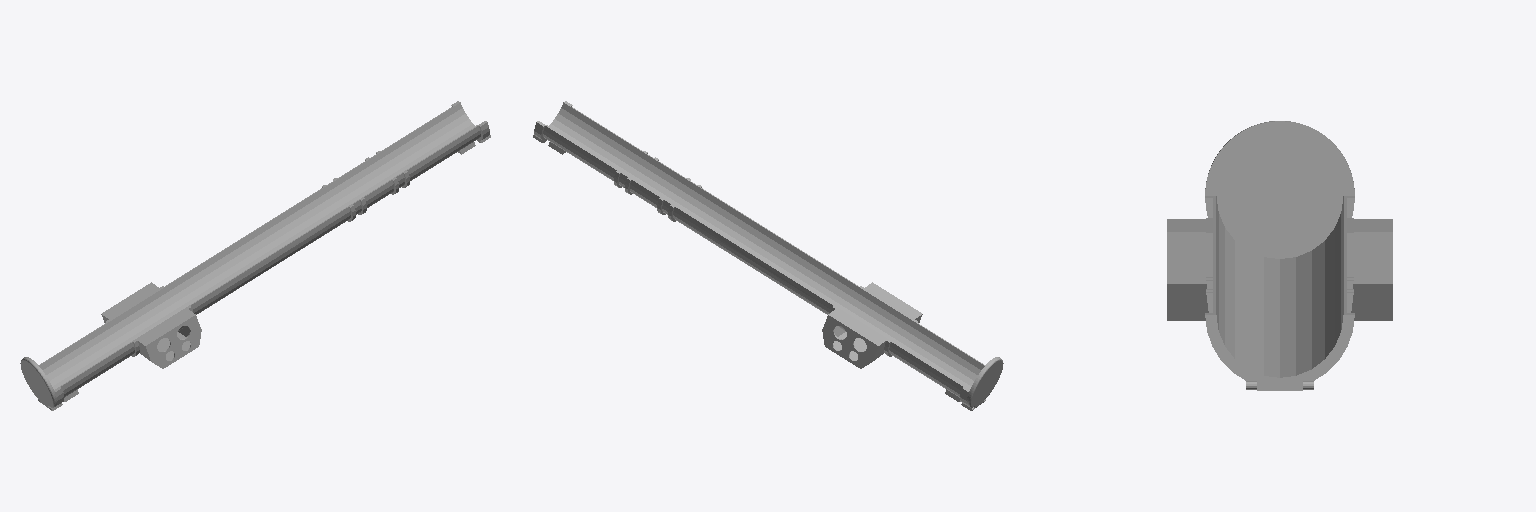
robot.urdf — launcher20deg_half:
<?xml version="1.0" ?>
<!-- =================================================================================== -->
<!-- |    This document was autogenerated by xacro from src/launcher20deg_half_description/urdf/launcher20deg_half.xacro | -->
<!-- |    EDITING THIS FILE BY HAND IS NOT RECOMMENDED                                 | -->
<!-- =================================================================================== -->
<robot name="launcher20deg_half">
  <material name="grey">
    <color rgba="0.82421875 0.82421875 0.82421875 1.0"/>
  </material>
  <material name="darkgrey">
    <color rgba="0.1843137254901961 0.30980392156862746 0.30980392156862746 1.000"/>
  </material>
  <material name="silver">
    <color rgba="0.700 0.700 0.700 1.000"/>
  </material>
  <material name="white">
    <color rgba="1 1 1 1"/>
  </material>
  <material name="orange">
    <color rgba="1 0.3 0.1 1"/>
  </material>
  <material name="blue">
    <color rgba="0.2 0.2 1 1"/>
  </material>
  <material name="red">
    <color rgba="0.8 0 0 1"/>
  </material>
  <material name="green">
    <color rgba="0.0 1 0.0 1"/>
  </material>
  <material name="black">
    <color rgba="0 0 0 1"/>
  </material>
  <transmission name="CupOpener_tran">
    <type>transmission_interface/SimpleTransmission</type>
    <joint name="CupOpener">
      <hardwareInterface>hardware_interface/EffortJointInterface</hardwareInterface>
    </joint>
    <actuator name="CupOpener_actr">
      <hardwareInterface>hardware_interface/EffortJointInterface</hardwareInterface>
      <mechanicalReduction>1</mechanicalReduction>
    </actuator>
  </transmission>
  <gazebo reference="base_link">
    <mu1>0.2</mu1>
    <mu2>0.2</mu2>
    <selfCollide>true</selfCollide>
    <gravity>true</gravity>
  </gazebo>
  <gazebo reference="launcher_platform">
    <material>Gazebo/DarkGrey</material>
    <mu1>0.2</mu1>
    <mu2>0.2</mu2>
    <selfCollide>true</selfCollide>
    <gravity>true</gravity>
  </gazebo>
  <gazebo reference="Canister_1">
    <material>Gazebo/White</material>
    <mu1>0.2</mu1>
    <mu2>0.2</mu2>
    <selfCollide>true</selfCollide>
    <visual>
      <transparency>0.75</transparency>
    </visual>
  </gazebo>
  <!-- <gazebo reference="Cup_3">
    <material>Gazebo/DarkGrey</material>
    <mu1>0.2</mu1>
    <mu2>0.2</mu2>
    <selfCollide>true</selfCollide>
  </gazebo> -->
  <gazebo reference="Cup_1">
    <material>Gazebo/DarkGrey</material>
    <mu1>0.2</mu1>
    <mu2>0.2</mu2>
    <selfCollide>true</selfCollide>
  </gazebo>
  <gazebo reference="CanisterHolder_1">
    <material>Gazebo/Green</material>
    <mu1>0.2</mu1>
    <mu2>0.2</mu2>
    <selfCollide>true</selfCollide>
  </gazebo>
  <gazebo reference="CanisterHolder_2">
    <material>Gazebo/Green</material>
    <mu1>0.2</mu1>
    <mu2>0.2</mu2>
    <selfCollide>true</selfCollide>
  </gazebo>
  <link name="base_link"/>
  <joint name="dummy_joint" type="fixed">
    <origin rpy="0 0 0" xyz="0 0 0"/>
    <parent link="base_link"/>
    <child link="launcher_platform"/>
  </joint>
  <link name="launcher_platform">
    <inertial>
      <origin rpy="0 0 0" xyz="0.21956009217606984 4.3636388735968575e-16 0.6746334924440056"/>
      <mass value="10722.621074762288"/>
      <inertia ixx="3680.005759" ixy="0.0" ixz="-2210.827735" iyy="13504.573497" iyz="0.0" izz="12126.040929"/>
    </inertial>
    <visual>
      <origin rpy="0 0 0" xyz="0 0 0"/>
      <geometry>
        <mesh filename="package://launcher20deg_half_description/meshes/base_link.stl" scale="0.001 0.001 0.001"/>
      </geometry>
      <material name="silver"/>
    </visual>
    <collision>
      <origin rpy="0 0 0" xyz="0 0 0"/>
      <geometry>
        <mesh filename="package://launcher20deg_half_description/meshes/base_link.stl" scale="0.001 0.001 0.001"/>
      </geometry>
    </collision>
  </link>
  <link name="Canister_1">
    <inertial>
      <origin rpy="0 0 0" xyz="-1.3433186025729844 -5.829324127345314e-12 -0.694969038036306"/>
      <mass value="831.8619039368604"/>
      <inertia ixx="387.88388" ixy="-0.0" ixz="-953.284553" iyy="2980.500638" iyz="-0.0" izz="2660.044462"/>
    </inertial>
    <visual>
      <origin rpy="0 0 0" xyz="-1.262326 0.0 -2.249618"/>
      <geometry>
        <mesh filename="package://launcher20deg_half_description/meshes/Canister_1.stl" scale="0.001 0.001 0.001"/>
      </geometry>
      <material name="silver"/>
    </visual>
    <collision>
      <origin rpy="0 0 0" xyz="-1.262326 0.0 -2.249618"/>
      <geometry>
        <mesh filename="package://launcher20deg_half_description/meshes/Canister_1.stl" scale="0.001 0.001 0.001"/>
      </geometry>
    </collision>
  </link>
  <!-- <link name="Cup_3">
  <inertial>
    <origin xyz="-0.11139775043512579 -2.463237070333466e-09 0.2908251033198668" rpy="0 0 0"/>
    <mass value="132.22389884749504"/>
    <inertia ixx="6.690853" iyy="3.560945" izz="4.004812" ixy="0.0" iyz="0.0" ixz="1.127009"/>
  </inertial>
  <visual>
    <origin xyz="-2.808743 0.0 -2.481602" rpy="0 0 0"/>
    <geometry>
      <mesh filename="package://launcher20deg_half_description/meshes/Cup_3.stl" scale="0.001 0.001 0.001"/>
    </geometry>
    <material name="silver"/>
  </visual>
  <collision>
    <origin xyz="-2.808743 0.0 -2.481602" rpy="0 0 0"/>
    <geometry>
      <mesh filename="package://launcher20deg_half_description/meshes/Cup_3.stl" scale="0.001 0.001 0.001"/>
    </geometry>
  </collision>
</link> -->
  <link name="Cup_1">
    <inertial>
      <origin rpy="0 0 0" xyz="0.1875705774787031 2.4632545340842703e-09 -0.686381472221144"/>
      <mass value="132.22389884749504"/>
      <inertia ixx="6.690933" ixy="0.0" ixz="1.126914" iyy="3.560945" iyz="-0.0" izz="4.004732"/>
    </inertial>
    <visual>
      <origin rpy="0 0 0" xyz="3.177629 -0.0 -1.389734"/>
      <geometry>
        <mesh filename="package://launcher20deg_half_description/meshes/Cup_1.stl" scale="0.001 0.001 0.001"/>
      </geometry>
      <material name="silver"/>
    </visual>
    <collision>
      <origin rpy="0 0 0" xyz="3.177629 -0.0 -1.389734"/>
      <geometry>
        <mesh filename="package://launcher20deg_half_description/meshes/Cup_1.stl" scale="0.001 0.001 0.001"/>
      </geometry>
    </collision>
  </link>
  <link name="CanisterHolder_1">
    <inertial>
      <origin rpy="0 0 0" xyz="-0.05951337321479344 1.4715522383126382e-16 0.16351174115532052"/>
      <mass value="335.0395971576902"/>
      <inertia ixx="43.686085" ixy="0.0" ixz="-3.25077" iyy="22.365267" iyz="0.0" izz="51.43432"/>
    </inertial>
    <visual>
      <origin rpy="0 0 0" xyz="1.419944 0.0 -0.847681"/>
      <geometry>
        <mesh filename="package://launcher20deg_half_description/meshes/CanisterHolder_1.stl" scale="0.001 0.001 0.001"/>
      </geometry>
      <material name="silver"/>
    </visual>
    <collision>
      <origin rpy="0 0 0" xyz="1.419944 0.0 -0.847681"/>
      <geometry>
        <mesh filename="package://launcher20deg_half_description/meshes/CanisterHolder_1.stl" scale="0.001 0.001 0.001"/>
      </geometry>
    </collision>
  </link>
  <link name="CanisterHolder_2">
    <inertial>
      <origin rpy="0 0 0" xyz="-0.05951351085707057 1.4715522383126382e-16 0.16351217113232974"/>
      <mass value="335.0395971576902"/>
      <inertia ixx="43.686085" ixy="0.0" ixz="-3.25077" iyy="22.365267" iyz="0.0" izz="51.43432"/>
    </inertial>
    <visual>
      <origin rpy="0 0 0" xyz="-1.399134 0.0 -1.873741"/>
      <geometry>
        <mesh filename="package://launcher20deg_half_description/meshes/CanisterHolder_2.stl" scale="0.001 0.001 0.001"/>
      </geometry>
      <material name="silver"/>
    </visual>
    <collision>
      <origin rpy="0 0 0" xyz="-1.399134 0.0 -1.873741"/>
      <geometry>
        <mesh filename="package://launcher20deg_half_description/meshes/CanisterHolder_2.stl" scale="0.001 0.001 0.001"/>
      </geometry>
    </collision>
  </link>
  <joint name="CanisterToHolder2" type="fixed">
    <origin rpy="0 0 0" xyz="-0.136808 0.0 0.375877"/>
    <parent link="CanisterHolder_2"/>
    <child link="Canister_1"/>
  </joint>
  <!-- <joint name="CupOpener" type="revolute">
  <origin xyz="1.546417 0.0 0.231984" rpy="0 0 0"/>
  <parent link="Canister_1"/>
  <child link="Cup_3"/>
  <axis xyz="0.0 1.0 0.0"/>
  <limit upper="4.712389" lower="0.0" effort="100" velocity="100"/>
</joint> -->
  <joint name="CupCloser" type="fixed">
    <origin rpy="0 0 0" xyz="-4.439955 0.0 -0.859884"/>
    <parent link="Canister_1"/>
    <child link="Cup_1"/>
  </joint>
  <joint name="BaseToHolder1" type="fixed">
    <origin rpy="0 0 0" xyz="-1.419944 0.0 0.847681"/>
    <parent link="base_link"/>
    <child link="CanisterHolder_1"/>
  </joint>
  <joint name="BaseToHolder2" type="fixed">
    <origin rpy="0 0 0" xyz="1.399134 0.0 1.873741"/>
    <parent link="base_link"/>
    <child link="CanisterHolder_2"/>
  </joint>
</robot>

--- What the picture shows (computed from the rendered views, not written in the file) ---
The picture shows the robot from 3 angles, left to right: view 1: azimuth 30°, elevation 25°; view 2: azimuth 150°, elevation 25°; view 3: azimuth 270°, elevation 25°; orthographic projection.
Model launcher20deg_half with 6 links and 5 joints (5 fixed), rooted at base_link, posed all joints at 0.
Visible links, largest first — view 1: Canister_1, CanisterHolder_1, Cup_1; view 2: Canister_1, CanisterHolder_1, Cup_1; view 3: Canister_1, Cup_1, CanisterHolder_1.
Link boxes in pixels (x1,y1,x2,y2): Canister_1: [38, 101, 490, 410]; CanisterHolder_1: [101, 282, 201, 368]; Cup_1: [20, 357, 56, 407]; Canister_1: [533, 101, 985, 410]; CanisterHolder_1: [822, 282, 922, 368]; Cup_1: [967, 357, 1003, 407]; Canister_1: [1205, 196, 1354, 390]; Cup_1: [1205, 121, 1354, 258]; CanisterHolder_1: [1167, 219, 1392, 320].
Size in the robot's own frame: 5.95 by 1 by 2.37 metres.
3 mesh visuals loaded from 5 distinct referenced files (3 binary STL); not drawn: 2 (reference not matched to a file when rendering).
